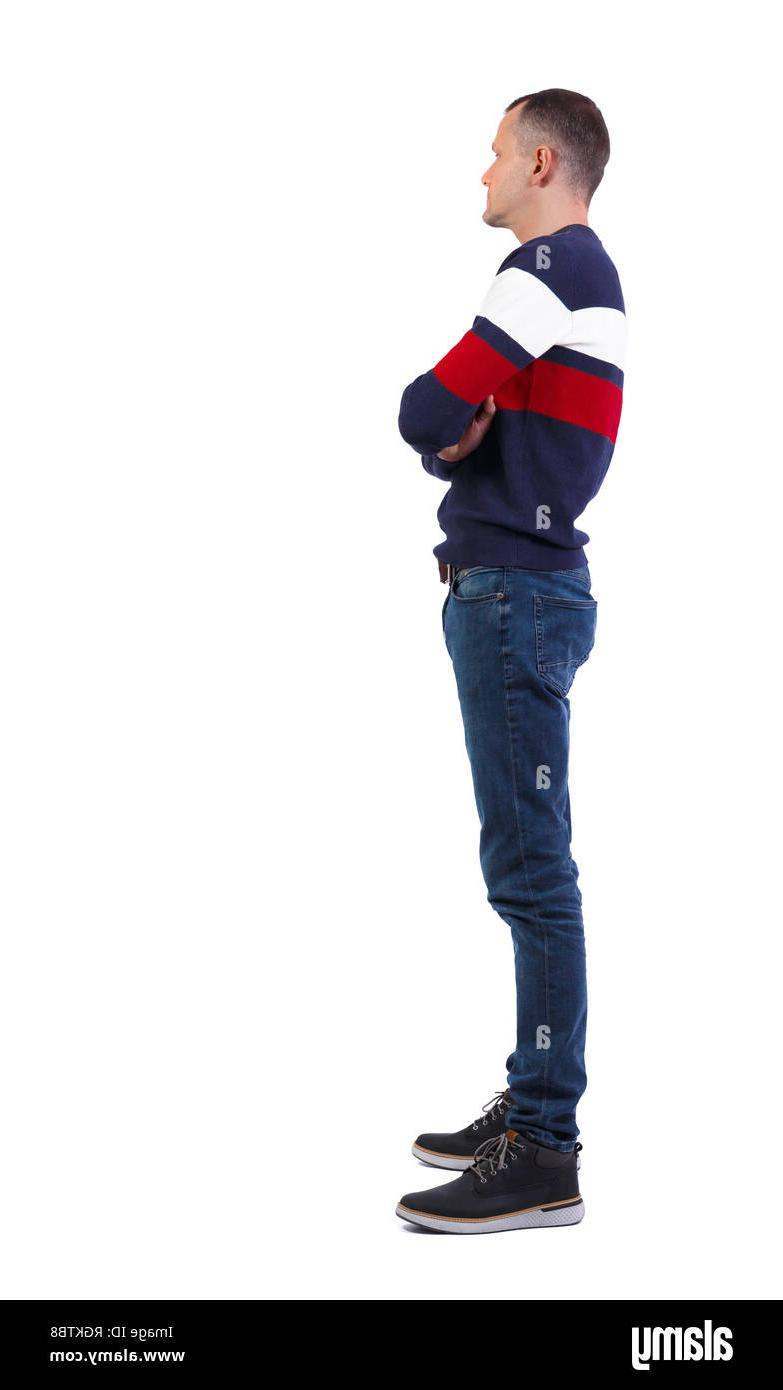sweater: (393, 222, 634, 570)
trousers: (434, 560, 603, 1147)
